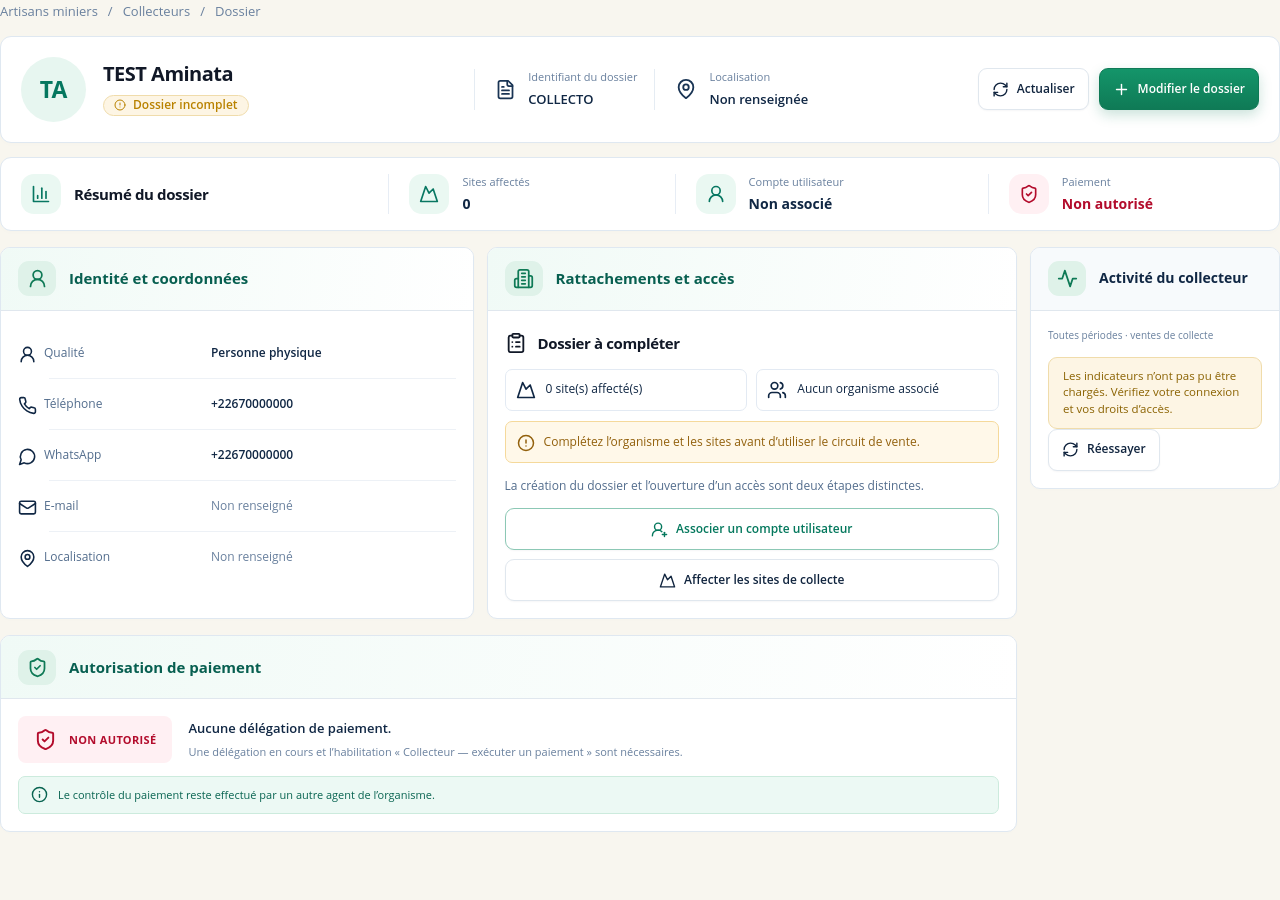
Test: Fiche collecteur › n’affiche pas de zéros trompeurs en cas d’échec et permet une nouvelle tentative
Expected: the message shows "n’ont pas pu être chargés", [1063,368,1239,416]
Expected: the text "Chiffre d’affaires suivi (HT)" is not shown
What coordinates should you click on to do the following:
click the button "Réessayer"
I would click on:
 (1104, 450)
Its box is [1048,428,1160,470].
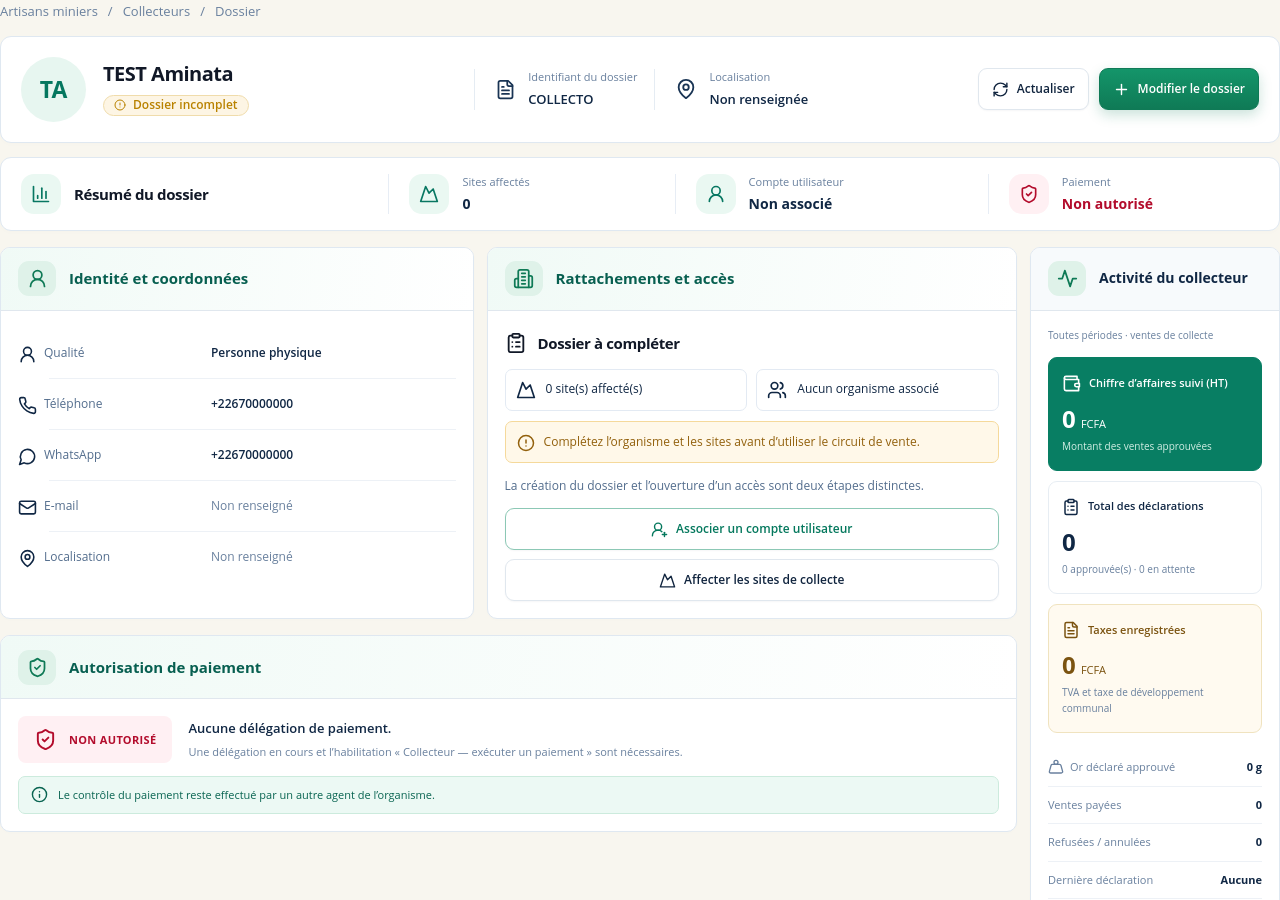
Result: the text "Chiffre d’affaires suivi (HT)" is shown at [1062,374,1248,392]
